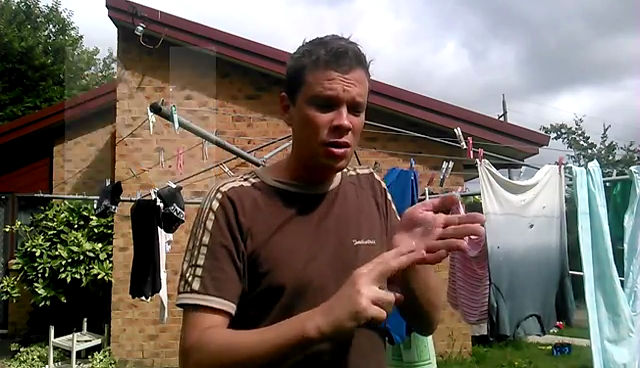V: (309, 189, 492, 339)
